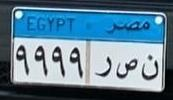9: (14, 44, 31, 76), (68, 46, 85, 77), (33, 46, 50, 74), (52, 46, 64, 78)
noon: (141, 53, 160, 80)
raa: (95, 55, 114, 78)
saad: (116, 58, 138, 80)
